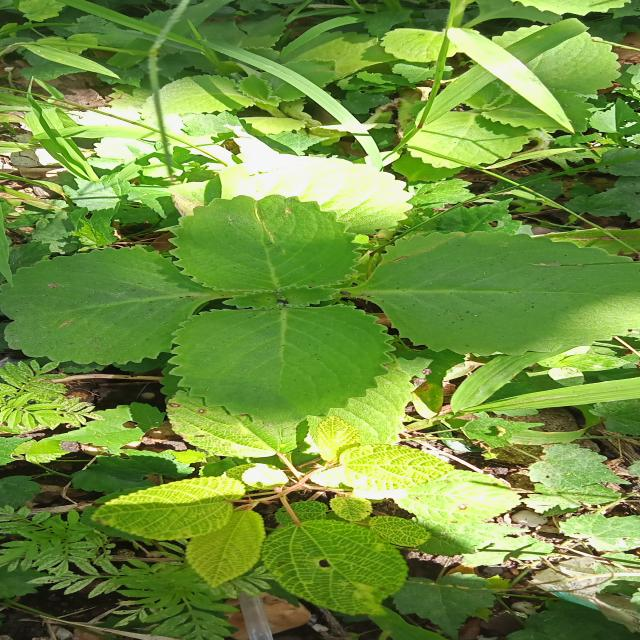Oregano: (1, 201, 640, 437), (118, 158, 421, 310)
